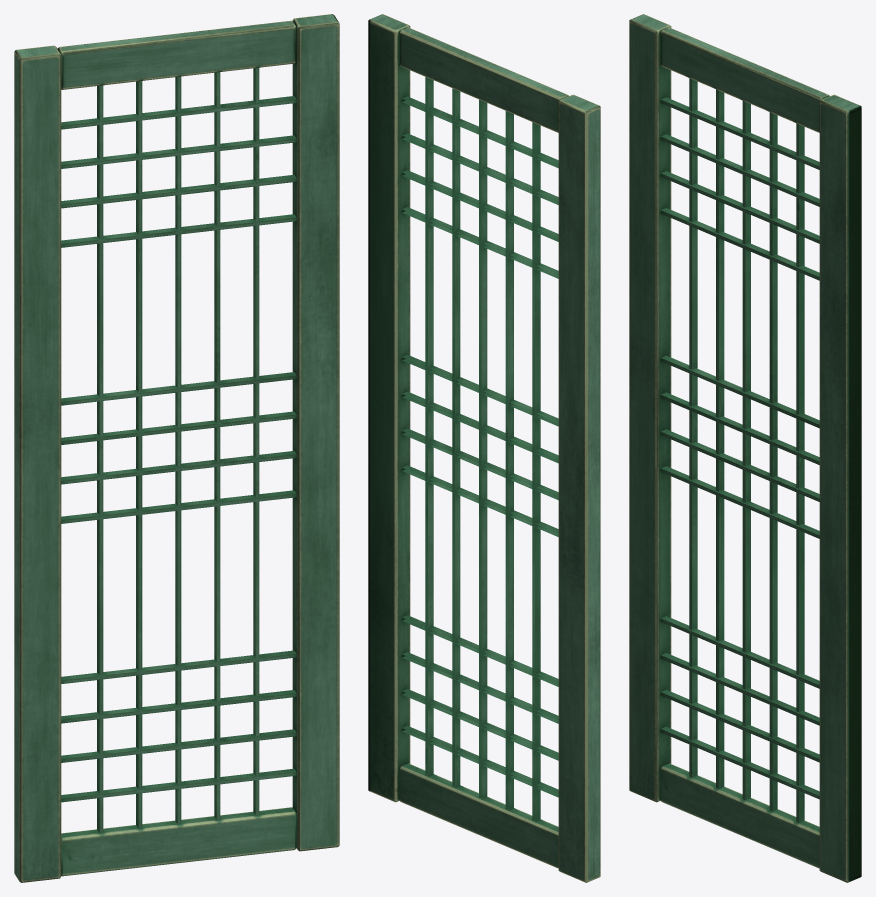
Rendered from TraditionalKoreanHouse_WindowAL.fbx.
3 renders of one model, left to right at view 1: azimuth 30°, elevation 25°; view 2: azimuth 150°, elevation 25°; view 3: azimuth 330°, elevation 25°, orthographic. The views are drawn at different scales.
Visible parts, largest first — view 1: TraditionalKoreanHouse_WindowAL; view 2: TraditionalKoreanHouse_WindowAL; view 3: TraditionalKoreanHouse_WindowAL.
Part boxes in pixels (box(x1,y1,x2,y2)): TraditionalKoreanHouse_WindowAL: box(14, 14, 339, 882); TraditionalKoreanHouse_WindowAL: box(368, 14, 600, 882); TraditionalKoreanHouse_WindowAL: box(629, 14, 861, 882).
Size of the model in its own units: 57.12 by 160 by 18.91.
